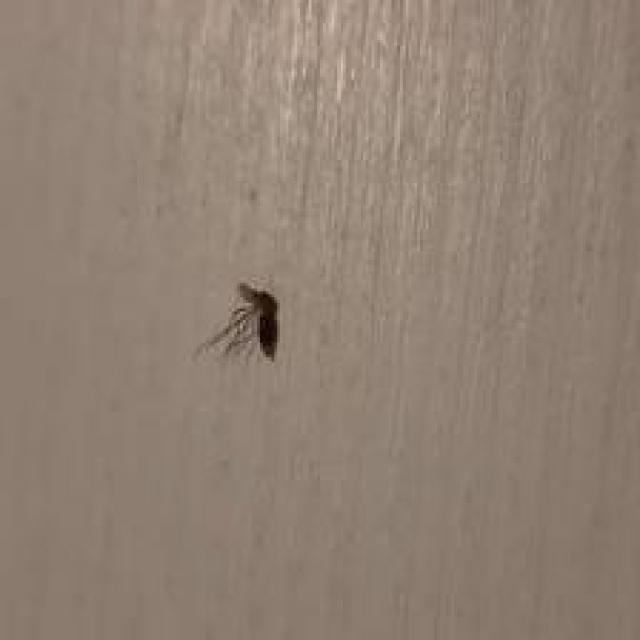Culex: (193, 282, 281, 364)
